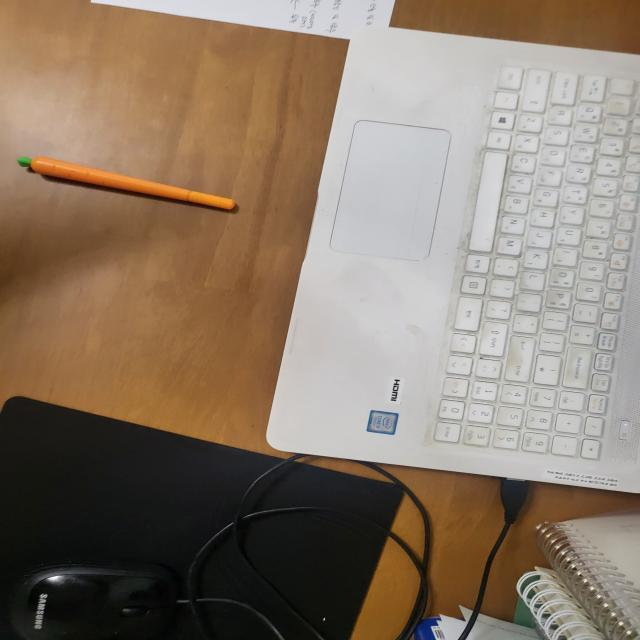carrot: (30, 152, 238, 214)
